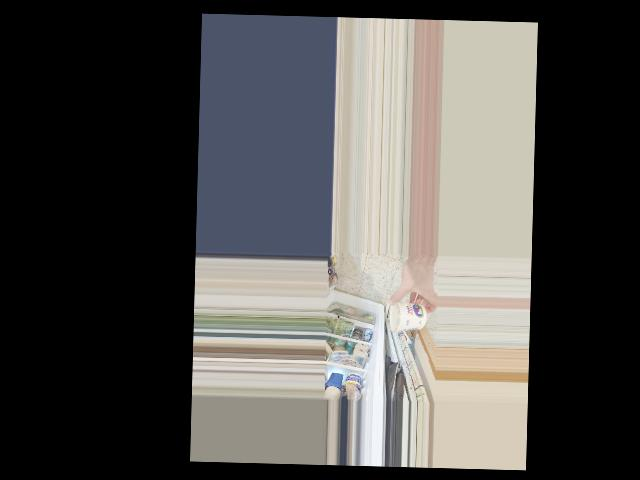cotage: (395, 301, 428, 326)
